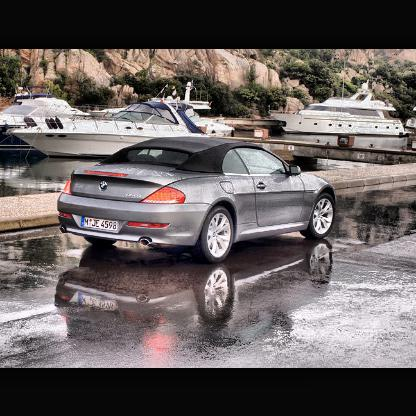BMW 6 Series Convertible 2007: (58, 137, 337, 264)
